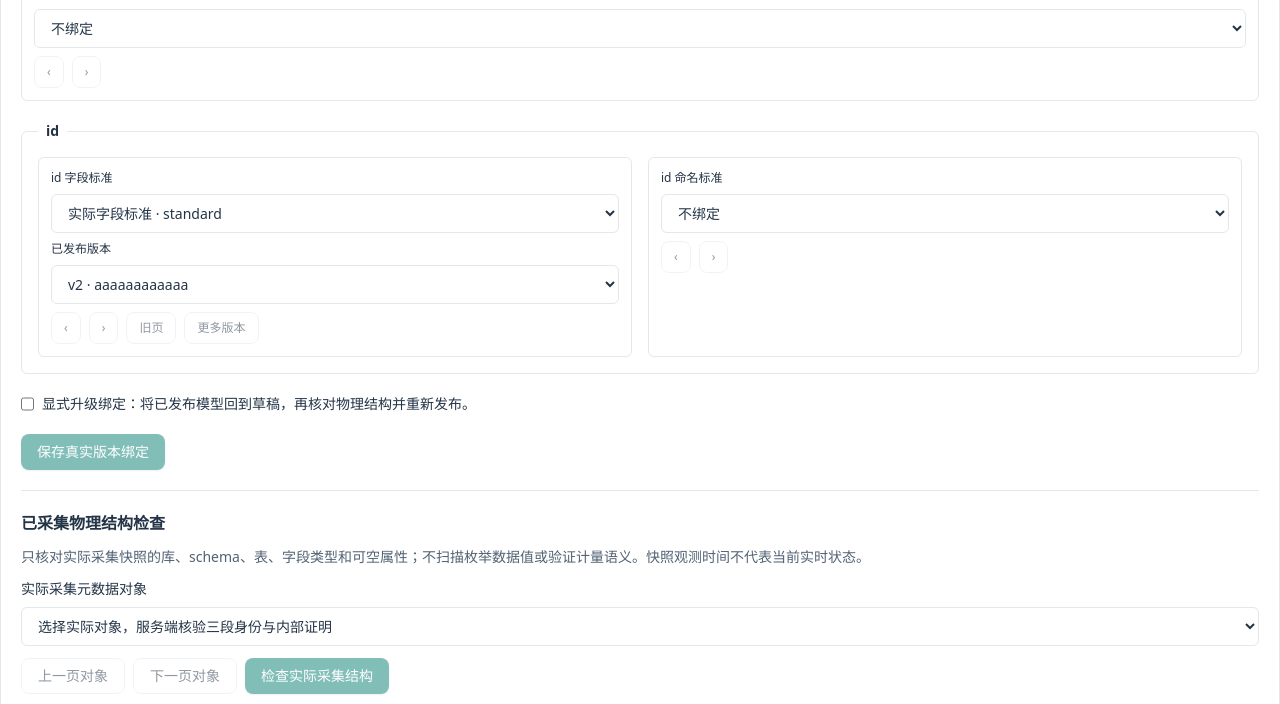
Test: Pinned model standards and actual collected structure › rejects an inspection receipt that claims enum content was scanned by structural inspection
(page scrolled)
Select "真实采集表 · v3" in the dropdown labelled "实际采集元数据对象" at [640, 626], box x1=21 y1=607 x2=1259 y2=646
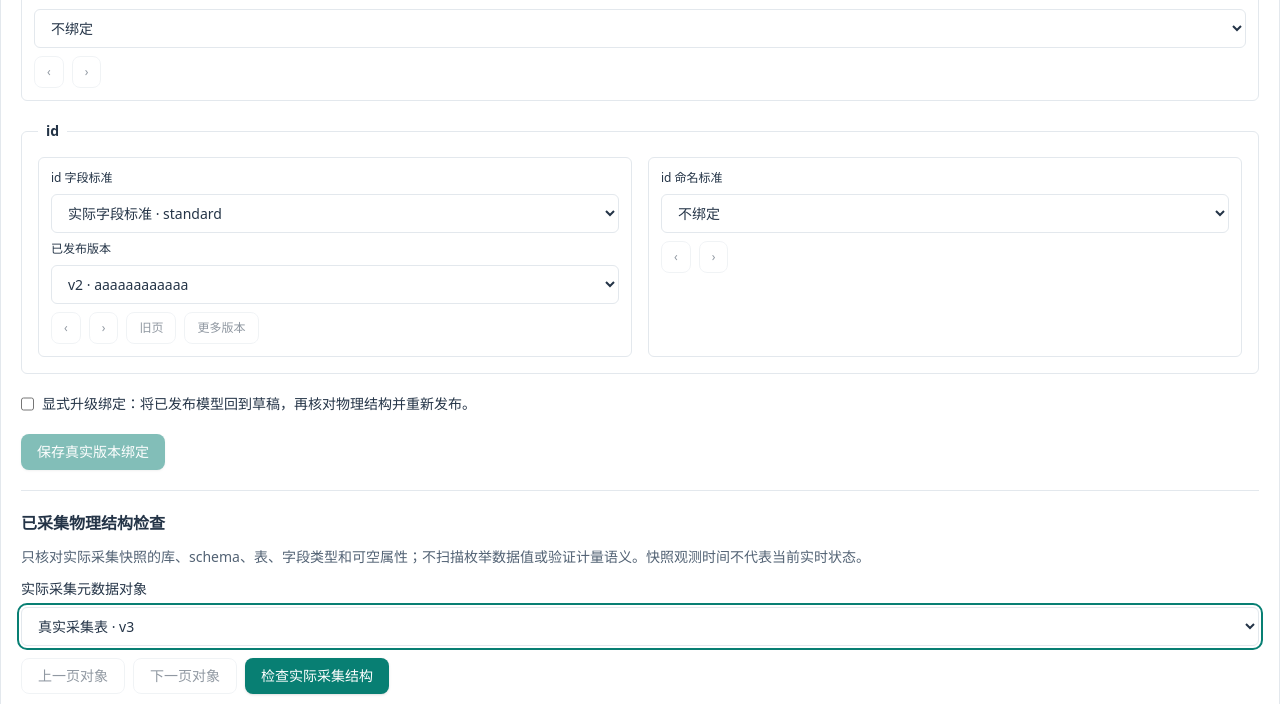
Click the button "检查实际采集结构" at [317, 676], box x1=245 y1=658 x2=389 y2=694
(page scrolled)
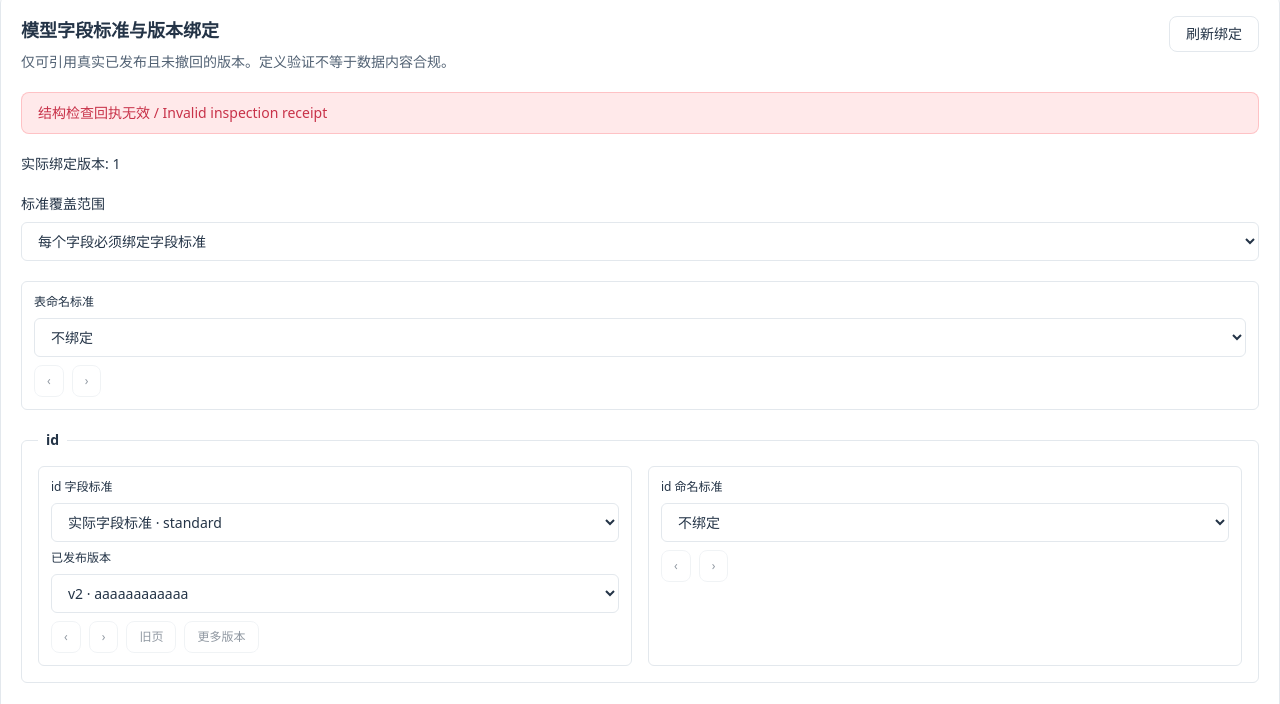
Result: the message "结构检查回执无效 / Invalid inspection receipt" is shown at x1=21 y1=92 x2=1259 y2=134
